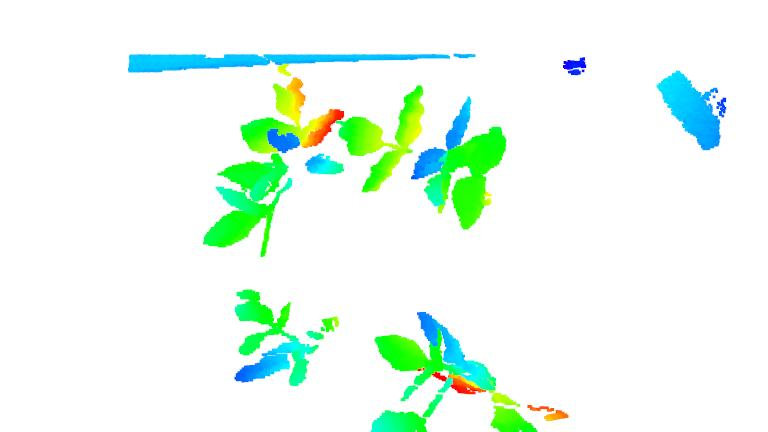mungbean: (201, 71, 349, 259), (340, 82, 511, 230), (368, 310, 541, 432), (224, 283, 341, 388)
